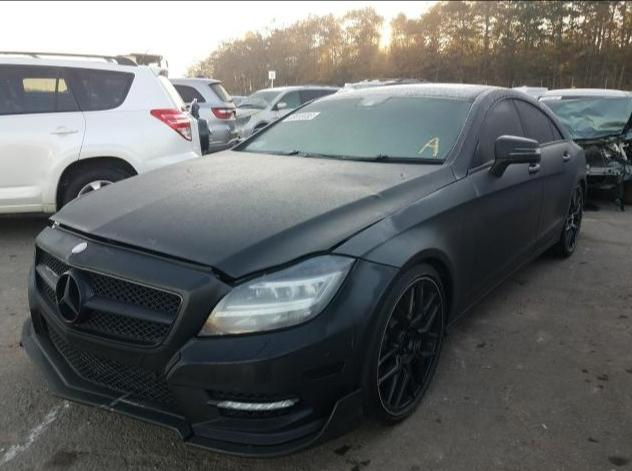Broken part: (46, 209, 394, 292)
Corrosion: (362, 186, 388, 205)
Dent: (369, 200, 423, 245), (315, 168, 379, 197), (399, 172, 408, 182)
Scratch: (111, 392, 157, 409), (344, 326, 360, 355), (94, 401, 124, 412)
